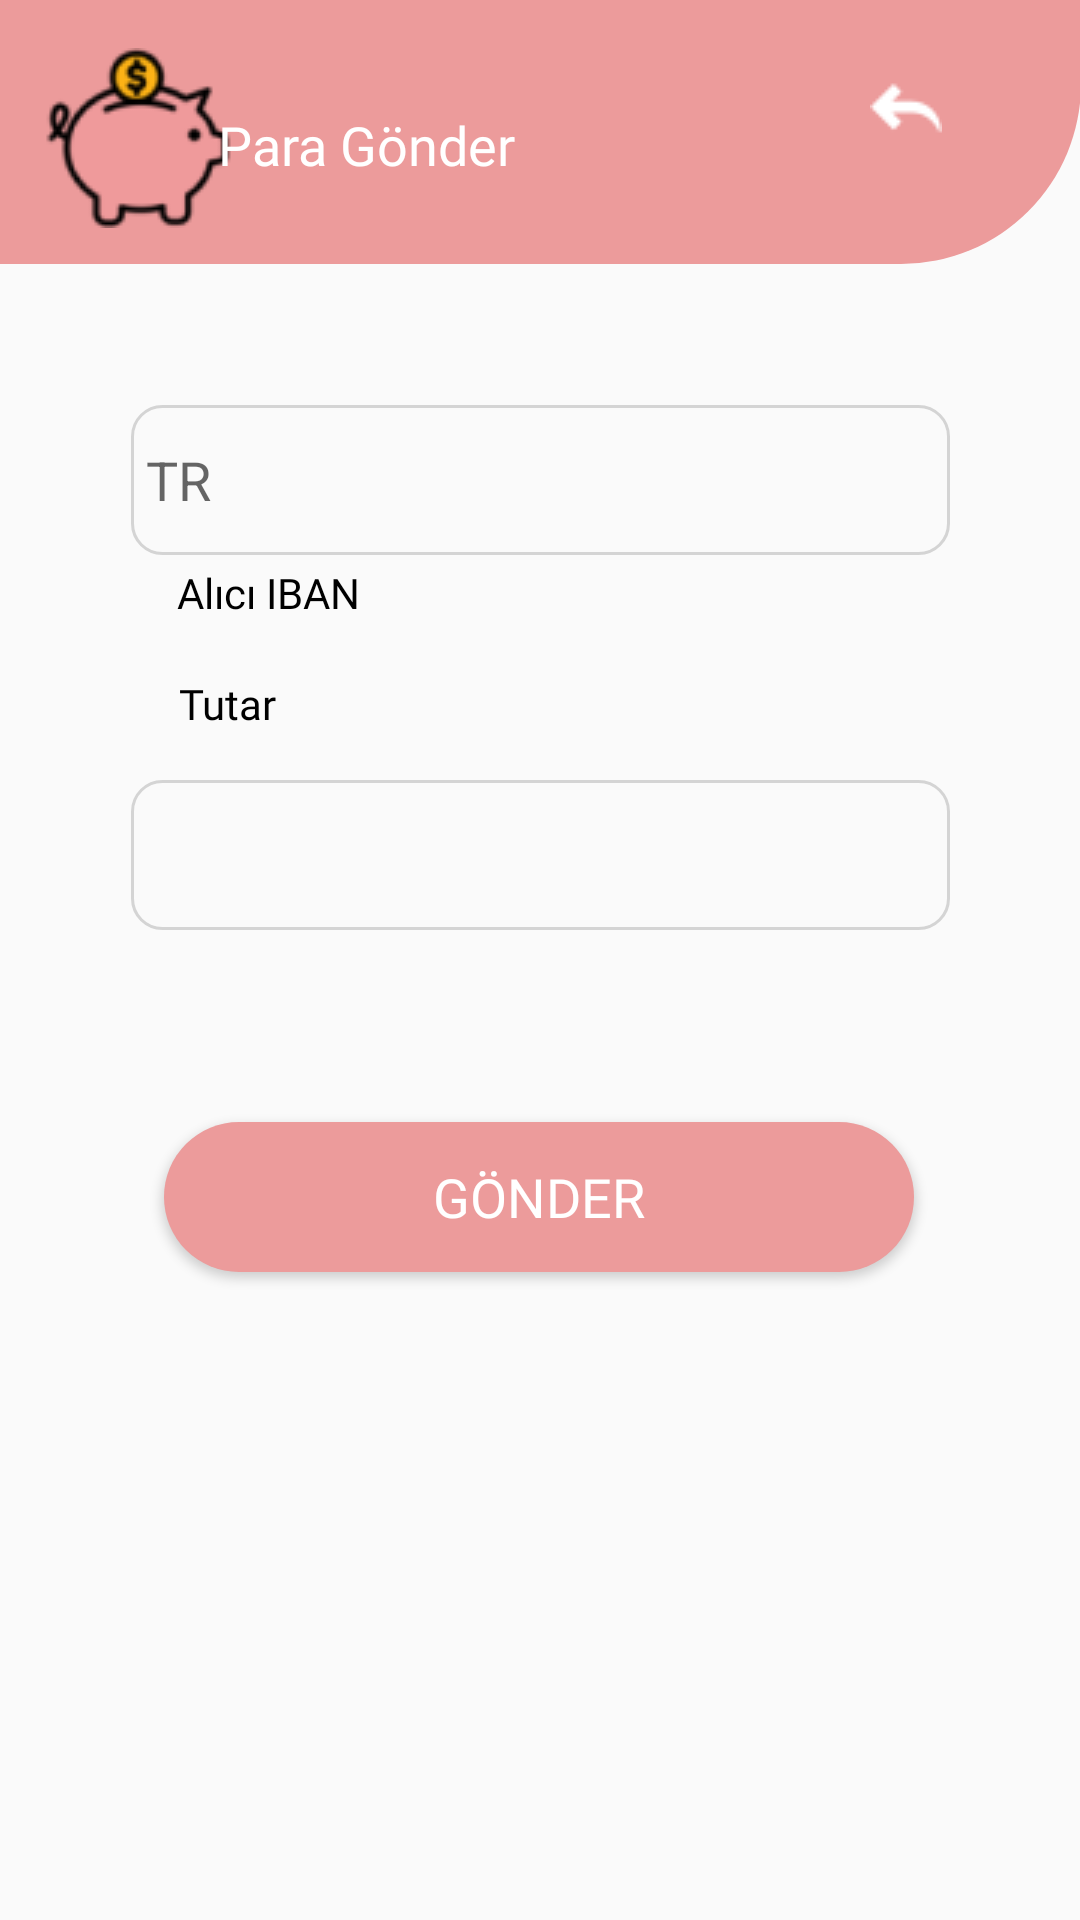

Screen size 1080 x 1920. Icon name, then its box in pixels as (x1,y1,x2,y2):
previous: (870,84,942,132)
